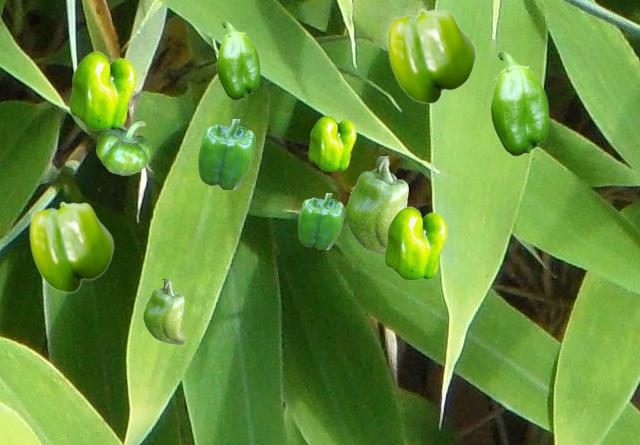bell_pepper: (387, 8, 475, 103), (29, 201, 113, 292), (345, 156, 409, 255), (490, 51, 548, 155), (69, 51, 135, 129), (384, 206, 446, 279), (198, 119, 254, 188), (216, 21, 259, 99), (96, 119, 150, 174), (143, 279, 184, 343), (308, 115, 355, 170), (298, 193, 343, 248)
